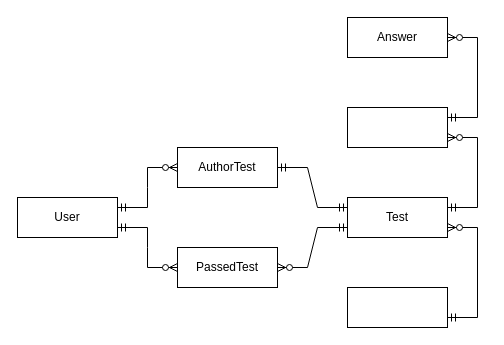
Image size: 504x345. Some labels were removed from this diagram. The centre of each missing label's shape, as x and y in pixels:
"Category" belongs at point (397, 307).
"Question" belongs at point (397, 127).
